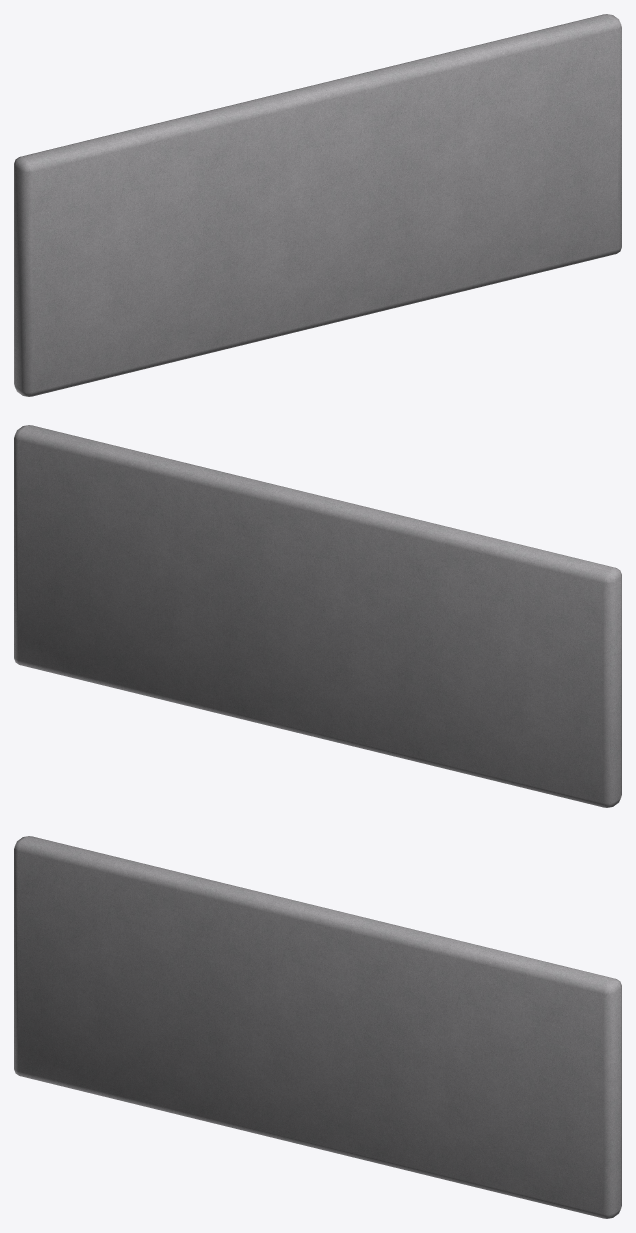
Rendered from partition.fabric-divider-light.glb.
3 renders of one model, top to bottom at view 1: azimuth 30°, elevation 25°; view 2: azimuth 150°, elevation 25°; view 3: azimuth 330°, elevation 25°, orthographic.
Parts seen in each view (by area): view 1: partition.fabric-divider-light.001; view 2: partition.fabric-divider-light.001; view 3: partition.fabric-divider-light.001.
Boxes of the visible parts, x1,y1,x2,y2 form: partition.fabric-divider-light.001: (14, 14, 621, 396); partition.fabric-divider-light.001: (14, 425, 621, 807); partition.fabric-divider-light.001: (14, 836, 621, 1218).
Size of the model in its own units: 1.2 by 0.45 by 0.05.
Materials: 1 (1 with a texture image).
